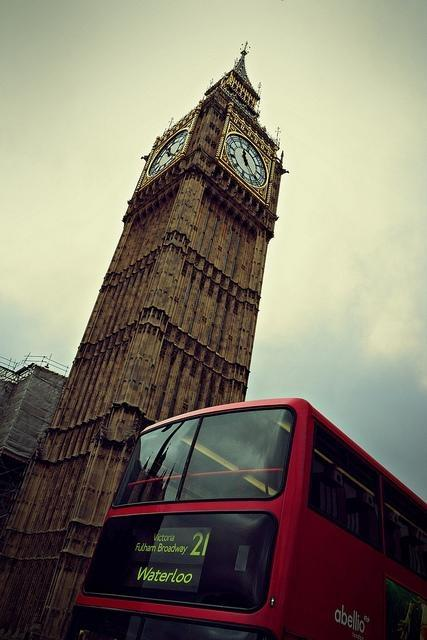bus: (63, 399, 424, 629)
